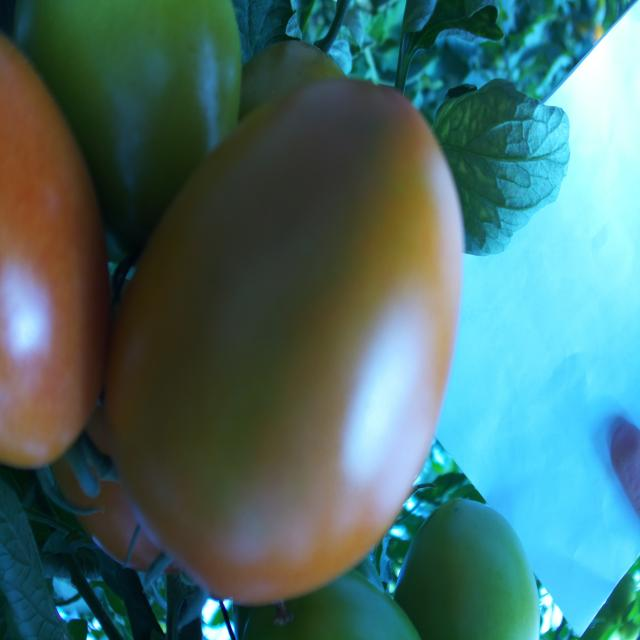sari: (100, 72, 482, 588)
